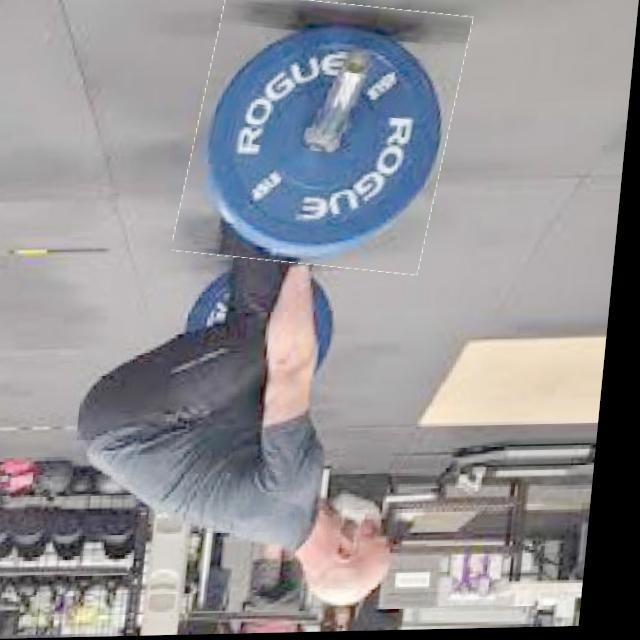barbell: (183, 1, 469, 275)
